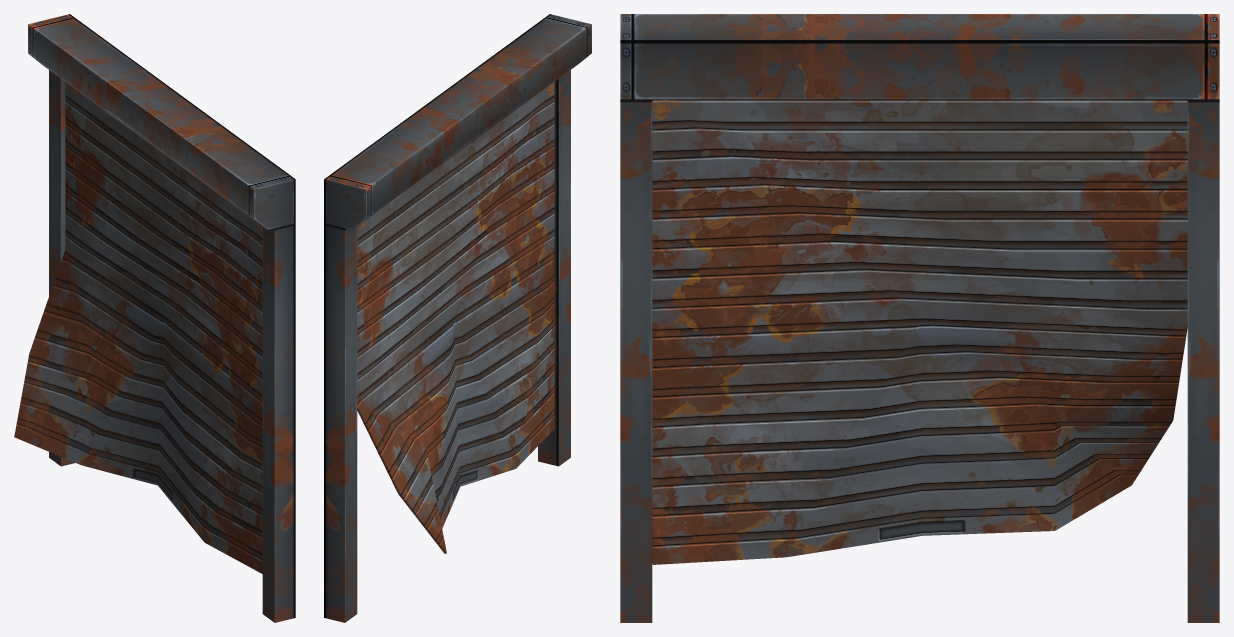
Rendered from rollerShutter02_3m_B.fbx.
The picture shows the model from 3 angles, left to right: view 1: azimuth 30°, elevation 25°; view 2: azimuth 150°, elevation 25°; view 3: azimuth 270°, elevation 25°; orthographic projection. The views are drawn at different scales.
Parts seen in each view (by area): view 1: rollerShutter02_3m_B; view 2: rollerShutter02_3m_B; view 3: rollerShutter02_3m_B.
Boxes of the visible parts, <box> form: rollerShutter02_3m_B: <box>14,14,295,622</box>; rollerShutter02_3m_B: <box>324,14,591,622</box>; rollerShutter02_3m_B: <box>620,14,1219,622</box>.
Bounding box in the file's own units: 63.92 × 300 × 280.
